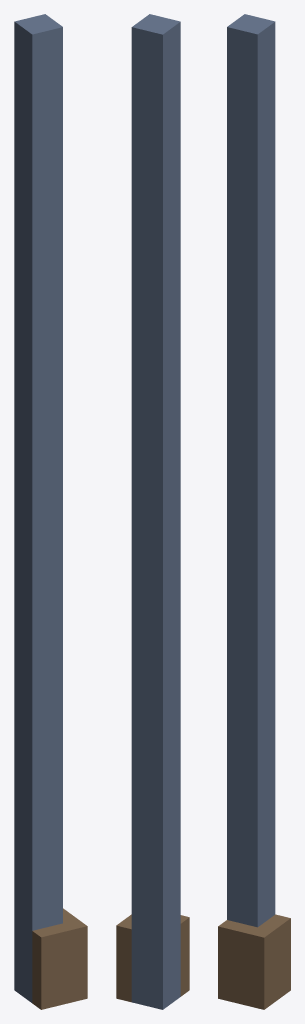
The model's file is Mesh_WallBaseboard_E6.fbx.
3 views of the same model, side by side, from view 1: azimuth 30°, elevation 25°; view 2: azimuth 150°, elevation 25°; view 3: azimuth 330°, elevation 25° (orthographic).
Parts seen in each view (by area): view 1: Mesh_WallBaseboard_E6; view 2: Mesh_WallBaseboard_E6; view 3: Mesh_WallBaseboard_E6.
Boxes of the visible parts, x1,y1,x2,y2 form: Mesh_WallBaseboard_E6: (14,14,87,1009); Mesh_WallBaseboard_E6: (116,14,189,1009); Mesh_WallBaseboard_E6: (218,14,290,1009).
Bounding box in the file's own units: 0.15 × 3 × 0.15.
